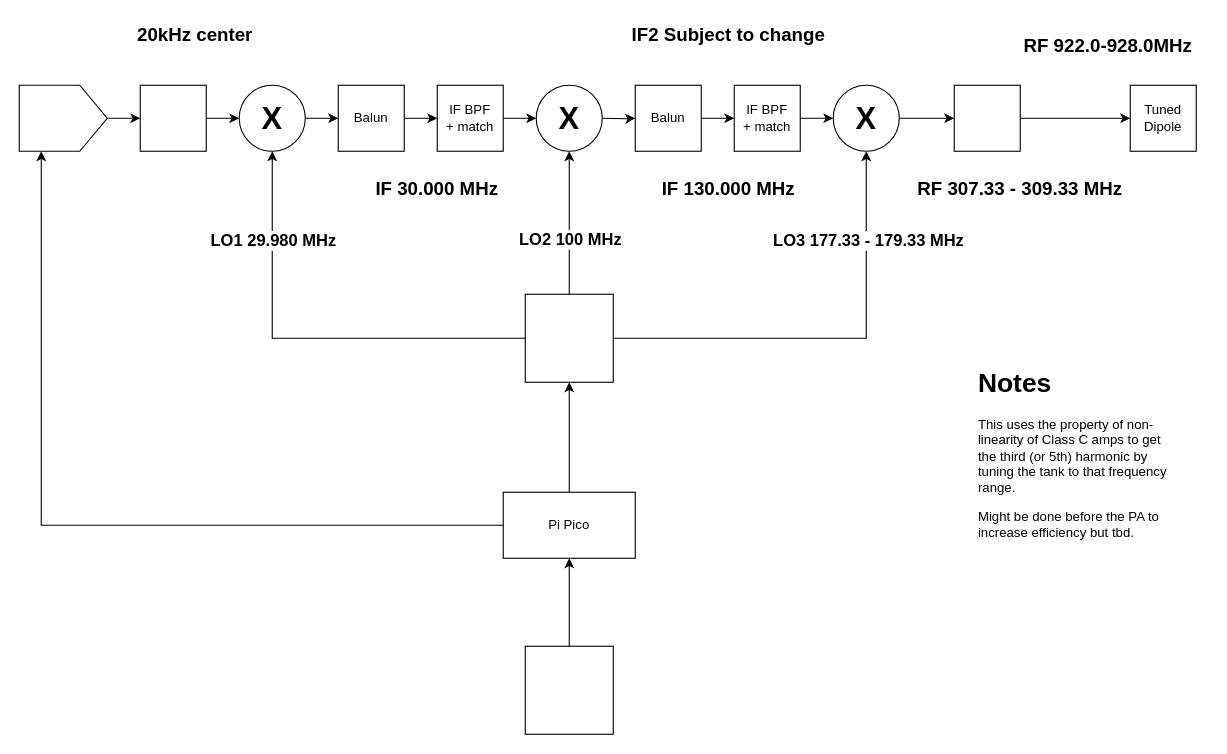
This 1227x754 diagram has some shape labels left out. The centre of each missing label's shape, as x and y in pixels:
"AA-LPF" goes at [172,117].
"Audio" goes at [62,117].
"PA Amp Class C tuned 3rd harmonic" goes at [986,117].
"Sensors" goes at [568,689].
"Si5351" goes at [568,337].
